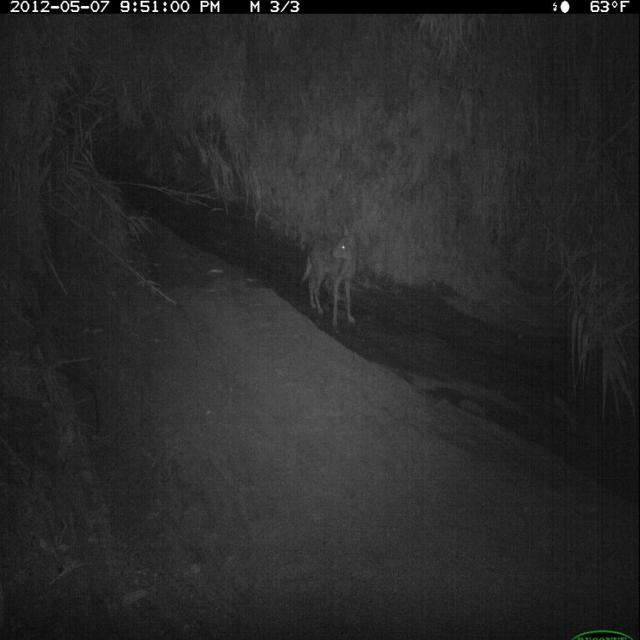coyote: (298, 219, 366, 330)
